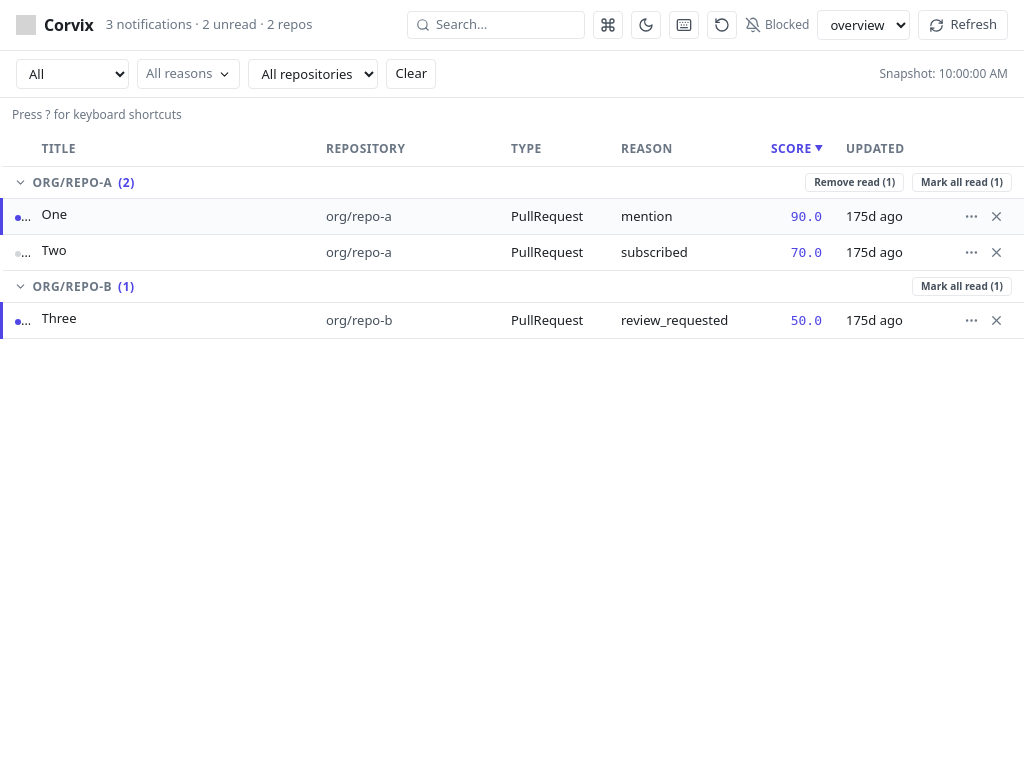
Test: App integration › surfaces a toast when mark-read fails and dismisses it
Click the link "One": (54, 214) [42,205,67,223]
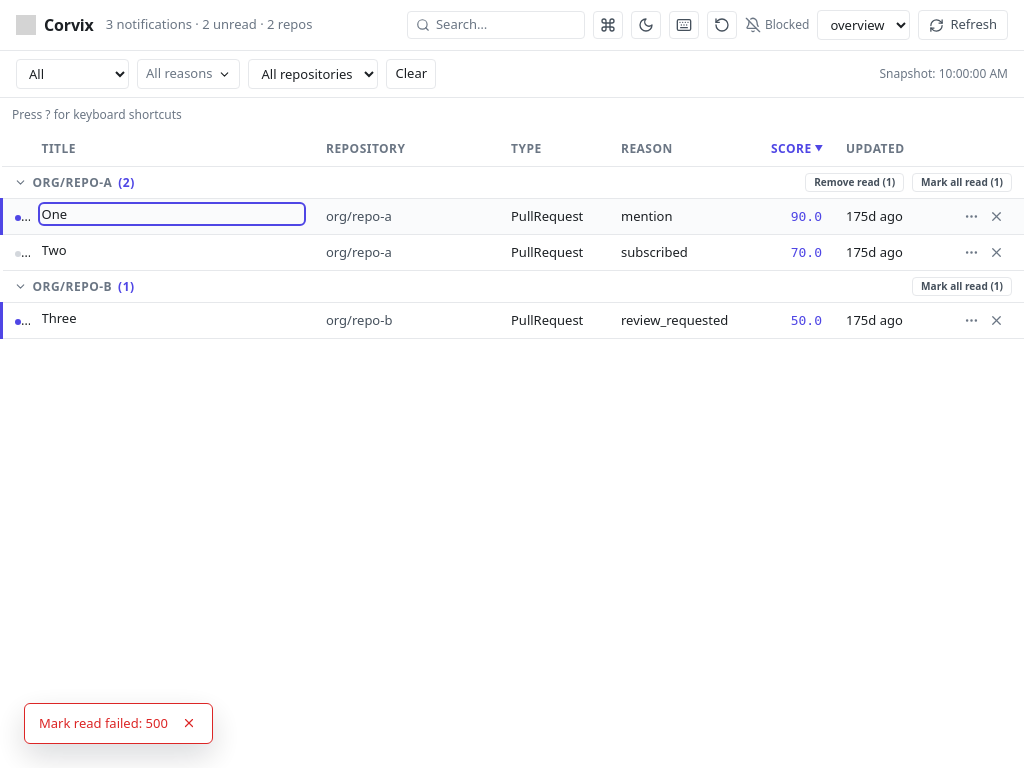
expect the message reads "Mark read failed: 500": met, box [39,714,168,732]
Click the button named "Dismiss error": (189, 723) [180,714,198,732]
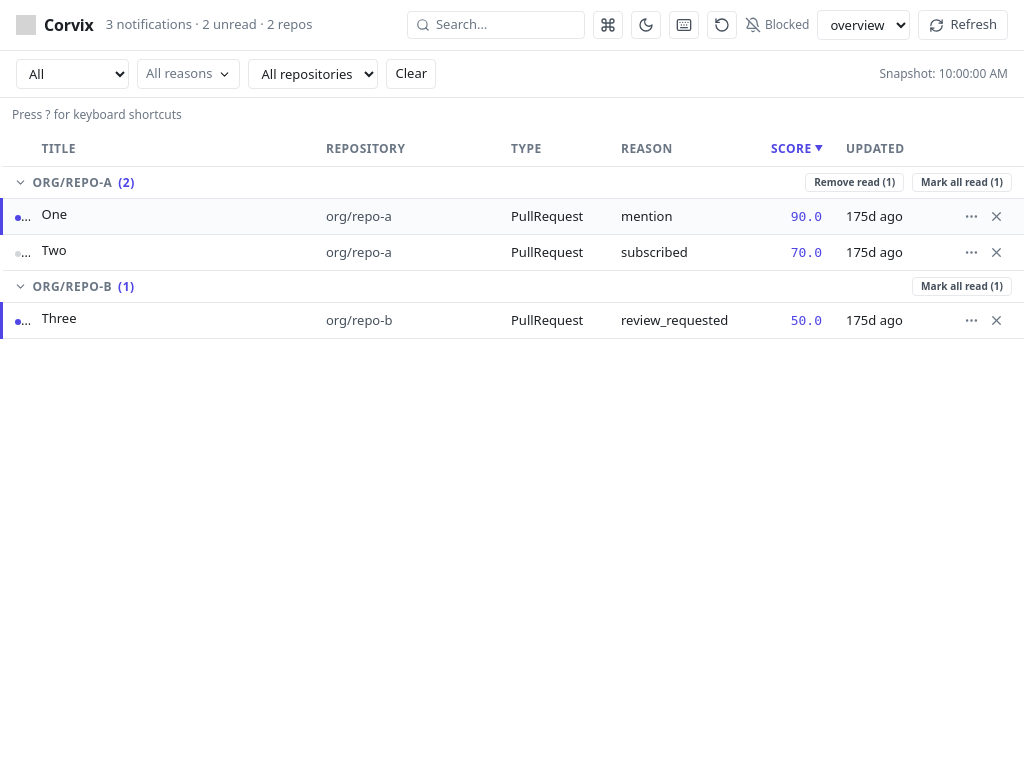
expect the message "Mark read failed: 500" is gone: met
